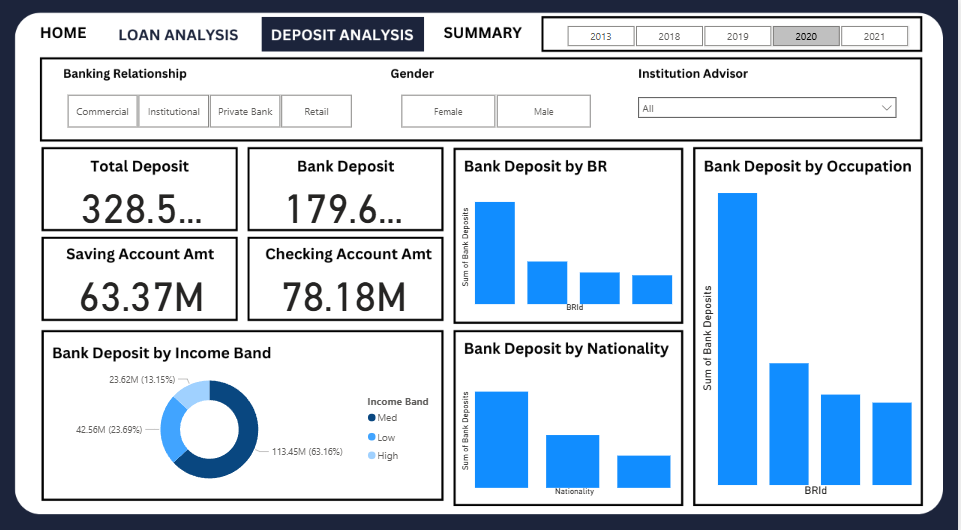

What the dashboard file says about the page in this screenshot:
{"tool":"powerbi","page":{"name":"Deposit Analysis","canvas":[1280,720],"ordinal":3},"visuals":[{"type":"slicer","fields":{"Values":["banking_case customer.Year of Joining"]},"box":[733.3,32.2,504.1,34.9],"z":0},{"type":"actionButton","box":[36.4,31.7,99.7,39.6],"z":1000},{"type":"actionButton","box":[348.2,31.7,221.6,39.6],"z":2000},{"type":"actionButton","box":[587.1,31.7,123.4,39.6],"z":3000},{"type":"card","fields":{"Values":["banking_case customer.Total Deposit"]},"box":[100.9,243.7,179.5,65.5],"z":4000},{"type":"card","fields":{"Values":["Sum(banking_case customer.Bank Deposits)"]},"box":[369.5,243.7,179.5,65.5],"z":5000},{"type":"card","fields":{"Values":["Sum(banking_case customer.Saving Accounts)"]},"box":[100.9,360.4,179.5,65.5],"z":6000},{"type":"card","fields":{"Values":["Sum(banking_case customer.Checking Accounts)"]},"box":[370.8,360.4,179.5,65.5],"z":7000},{"type":"donutChart","fields":{"Category":["banking_case customer.Income Band"],"Y":["Sum(banking_case customer.Bank Deposits)"]},"box":[66.8,488.8,530.7,176.9],"z":8000},{"type":"clusteredColumnChart","fields":{"Category":["banking_case customer.BRId"],"Y":["Sum(banking_case customer.Bank Deposits)"]},"box":[613.3,243.7,293.5,182.1],"z":9000},{"type":"clusteredColumnChart","fields":{"Category":["banking_case customer.Nationality"],"Y":["Sum(banking_case customer.Bank Deposits)"]},"box":[613.3,488.8,293.5,182.1],"z":10000},{"type":"slicer","fields":{"Values":["banking_case customer.BRId"]},"box":[66.8,123.2,428.5,57.7],"z":11000},{"type":"slicer","fields":{"Values":["banking_case customer.GenderId"]},"box":[512.4,123.2,302.7,57.7],"z":12000},{"type":"slicer","fields":{"Values":["banking_case customer.IAId"]},"box":[843.9,123.2,364.3,57.7],"z":13000},{"type":"clusteredColumnChart","fields":{"Category":["banking_case customer.BRId"],"Y":["Sum(banking_case customer.Bank Deposits)"]},"box":[933.7,245.3,292.8,425.7],"z":14000},{"type":"actionButton","box":[136.3,27.5,196.6,40.6],"z":15000}]}

Visuals, with their boxes in screenshot pixels (x1, y1, x2, y2), scaled from the page's 1280x720 canvas onto the 961x530 screenshot:
slicer - banking_case customer.Year of Joining: [551,24,929,49]
actionButton: [27,23,102,52]
actionButton: [261,23,428,52]
actionButton: [441,23,533,52]
card - banking_case customer.Total Deposit: [76,179,211,228]
card - Sum(banking_case customer.Bank Deposits): [277,179,412,228]
card - Sum(banking_case customer.Saving Accounts): [76,265,211,314]
card - Sum(banking_case customer.Checking Accounts): [278,265,413,314]
donutChart - banking_case customer.Income Band x Sum(banking_case customer.Bank Deposits): [50,360,449,490]
clusteredColumnChart - banking_case customer.BRId x Sum(banking_case customer.Bank Deposits): [460,179,681,313]
clusteredColumnChart - banking_case customer.Nationality x Sum(banking_case customer.Bank Deposits): [460,360,681,494]
slicer - banking_case customer.BRId: [50,91,372,133]
slicer - banking_case customer.GenderId: [385,91,612,133]
slicer - banking_case customer.IAId: [634,91,907,133]
clusteredColumnChart - banking_case customer.BRId x Sum(banking_case customer.Bank Deposits): [701,181,921,494]
actionButton: [102,20,250,50]
